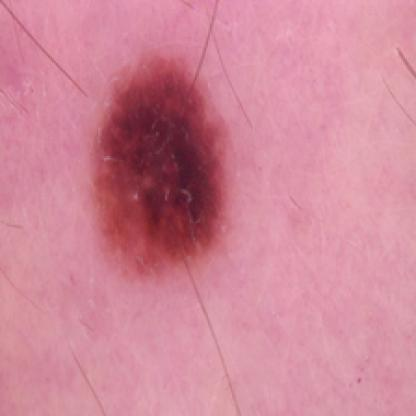benign: (91, 46, 227, 264)
